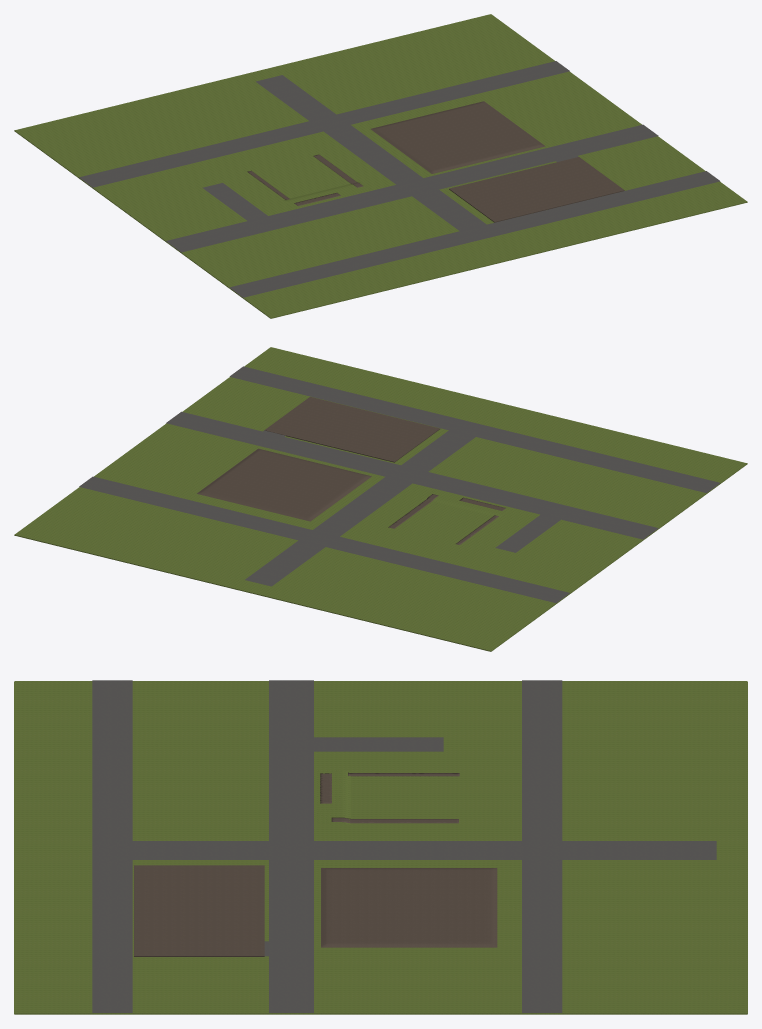
The model's file is terrain-v6.glb.
3 views of the same model, one above another, from view 1: azimuth 30°, elevation 25°; view 2: azimuth 150°, elevation 25°; view 3: azimuth 270°, elevation 25° (orthographic). The views are drawn at different scales.
Parts seen in each view (by area): view 1: terrain_surface; view 2: terrain_surface; view 3: terrain_surface.
Part boxes in pixels (<box>): terrain_surface: <box>14,14,747,318</box>; terrain_surface: <box>14,347,747,651</box>; terrain_surface: <box>14,680,747,1014</box>.
Size of the model in its own units: 88 by 0.31 by 82.
4 materials, 4 textured.
